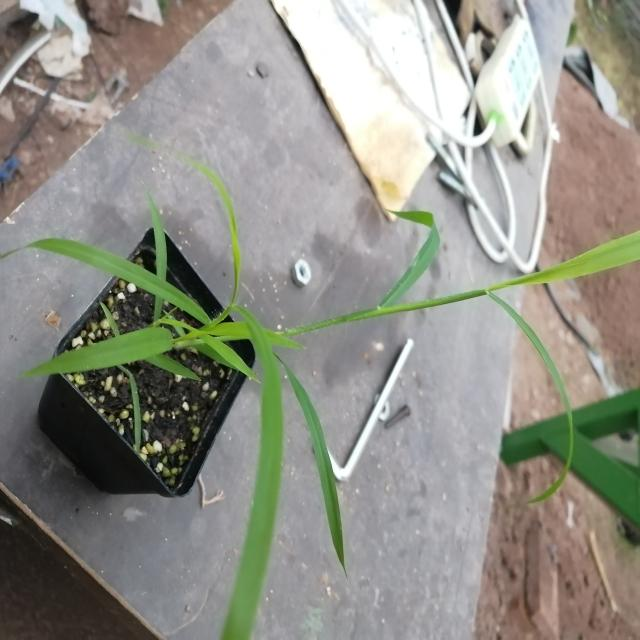crabgrass: (26, 136, 326, 582)
